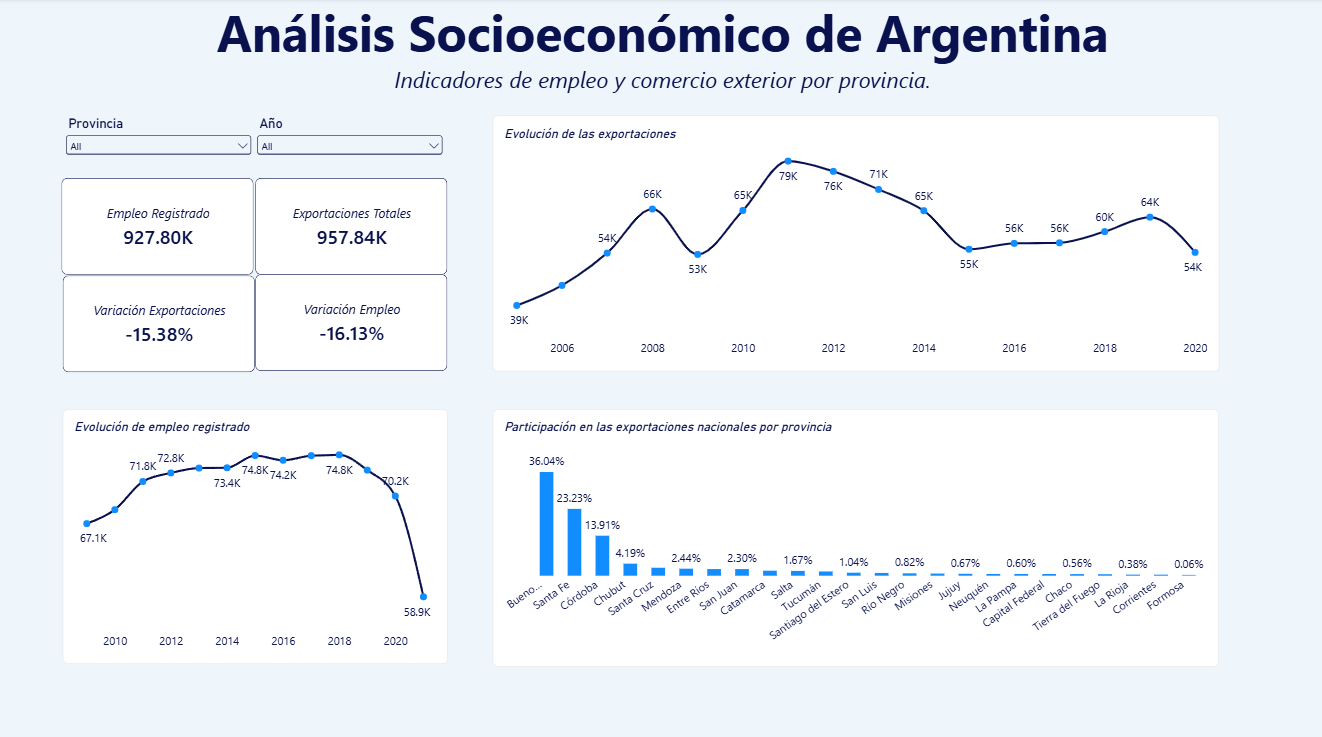

Layout of this report page (visuals, bound fields, positions):
{"tool":"powerbi","page":{"name":"Economía","canvas":[1920,1080],"ordinal":2},"visuals":[{"type":"slicer","fields":{"Values":["Dim_Fecha.Date.Variation.Date Hierarchy.Year"]},"box":[370,170,278,64],"z":0},{"type":"slicer","fields":{"Values":["Dim_Provincia.provincia"]},"box":[92,170,278,64],"z":1000},{"type":"cardVisual","fields":{"Data":["Fact_Exportaciones.Variación Exportaciones Tarjeta %"]},"box":[92.3,401.7,278,140],"z":2000},{"type":"cardVisual","fields":{"Data":["Fact_Empleo.Empleo Registrado (miles)"]},"box":[90.5,260.6,278,140],"z":3000},{"type":"cardVisual","fields":{"Data":["Fact_Exportaciones.Exportaciones Totales"]},"box":[371,260.6,278,140],"z":4000},{"type":"cardVisual","fields":{"Data":["Fact_Empleo.Variación Empleo Tarjeta %"]},"box":[371,399.9,278,140],"z":5000},{"type":"textbox","box":[284,0,1353.4,150],"z":6000},{"type":"lineChart","title":"Evolución de las exportaciones","fields":{"Category":["Dim_Fecha.Date.Variation.Date Hierarchy.Year"],"Y":["Fact_Exportaciones.Exportaciones Totales"]},"box":[714,170,1052,370],"z":7000},{"type":"columnChart","title":"Participación en las exportaciones nacionales por provincia","fields":{"Category":["Dim_Provincia.provincia"],"Y":["Fact_Exportaciones.Participación Exportaciones Nacionales %"]},"box":[714.8,595.4,1051.4,372.8],"z":9000},{"type":"lineChart","title":"Evolución de empleo registrado","fields":{"Category":["Dim_Fecha.Date.Variation.Date Hierarchy.Year"],"Y":["Fact_Empleo.Empleo Registrado (miles)"]},"box":[92.3,595.4,557.4,369.2],"z":9001}]}

Visuals, with their boxes in screenshot pixels (x1, y1, x2, y2), scaled from the page's 1920x1080 canvas onto the 1322x737 screenshot:
slicer - Dim_Fecha.Date.Variation.Date Hierarchy.Year: bbox=(255, 116, 446, 160)
slicer - Dim_Provincia.provincia: bbox=(63, 116, 255, 160)
cardVisual - Fact_Exportaciones.Variación Exportaciones Tarjeta %: bbox=(64, 274, 255, 370)
cardVisual - Fact_Empleo.Empleo Registrado (miles): bbox=(62, 178, 254, 273)
cardVisual - Fact_Exportaciones.Exportaciones Totales: bbox=(255, 178, 447, 273)
cardVisual - Fact_Empleo.Variación Empleo Tarjeta %: bbox=(255, 273, 447, 368)
textbox: bbox=(196, 0, 1127, 102)
"Evolución de las exportaciones" lineChart: bbox=(492, 116, 1216, 369)
"Participación en las exportaciones nacionales por provincia" columnChart: bbox=(492, 406, 1216, 661)
"Evolución de empleo registrado" lineChart: bbox=(64, 406, 447, 658)
